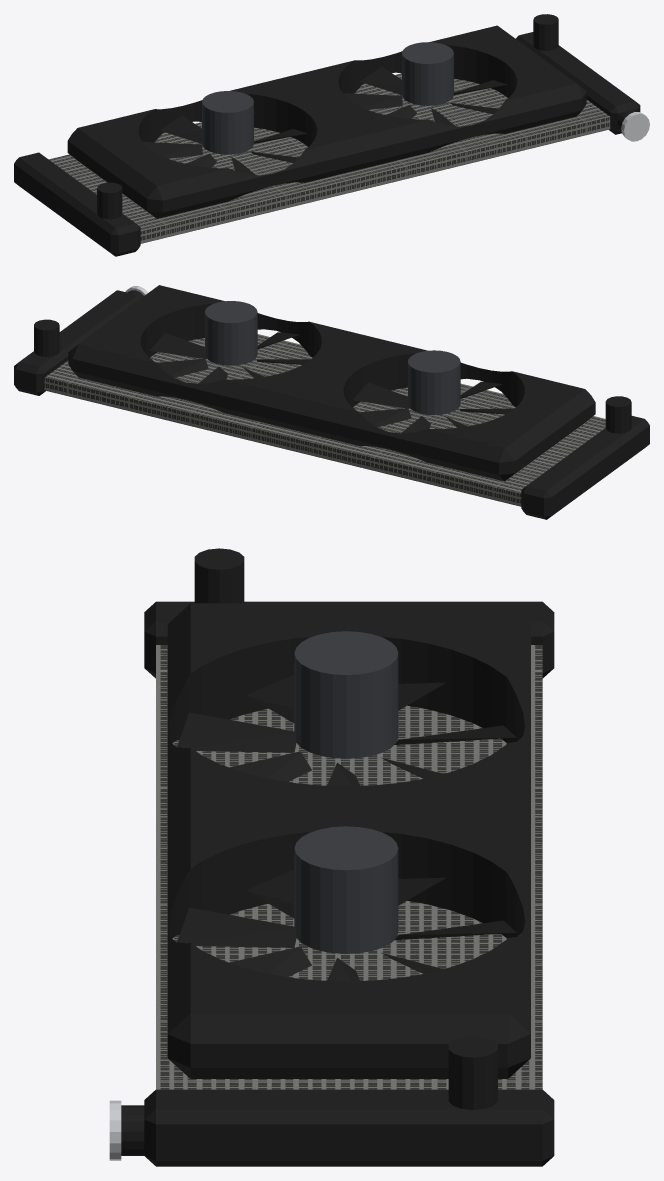
File: radiador.glb
3 renders of one model, top to bottom at view 1: azimuth 30°, elevation 25°; view 2: azimuth 150°, elevation 25°; view 3: azimuth 270°, elevation 25°, orthographic. The views are drawn at different scales.
Visible parts, largest first — view 1: radiador_plastico_preto, radiador_radiador_colmeia, radiador_aco_escuro, radiador_aco; view 2: radiador_plastico_preto, radiador_radiador_colmeia, radiador_aco_escuro; view 3: radiador_plastico_preto, radiador_radiador_colmeia, radiador_aco_escuro.
Part boxes in pixels (box(x1,y1,x2,y2)): radiador_plastico_preto: box(14, 14, 640, 256); radiador_radiador_colmeia: box(49, 73, 610, 243); radiador_aco_escuro: box(202, 42, 453, 154); radiador_aco: box(621, 112, 649, 141); radiador_plastico_preto: box(14, 285, 649, 519); radiador_radiador_colmeia: box(44, 334, 605, 506); radiador_aco_escuro: box(205, 301, 460, 415); radiador_plastico_preto: box(121, 548, 554, 1166); radiador_radiador_colmeia: box(156, 645, 542, 1089); radiador_aco_escuro: box(294, 631, 398, 953).
Bounding box in the file's own units: 1.06 × 0.156 × 0.385.
Materials: 4 (1 with a texture image).
